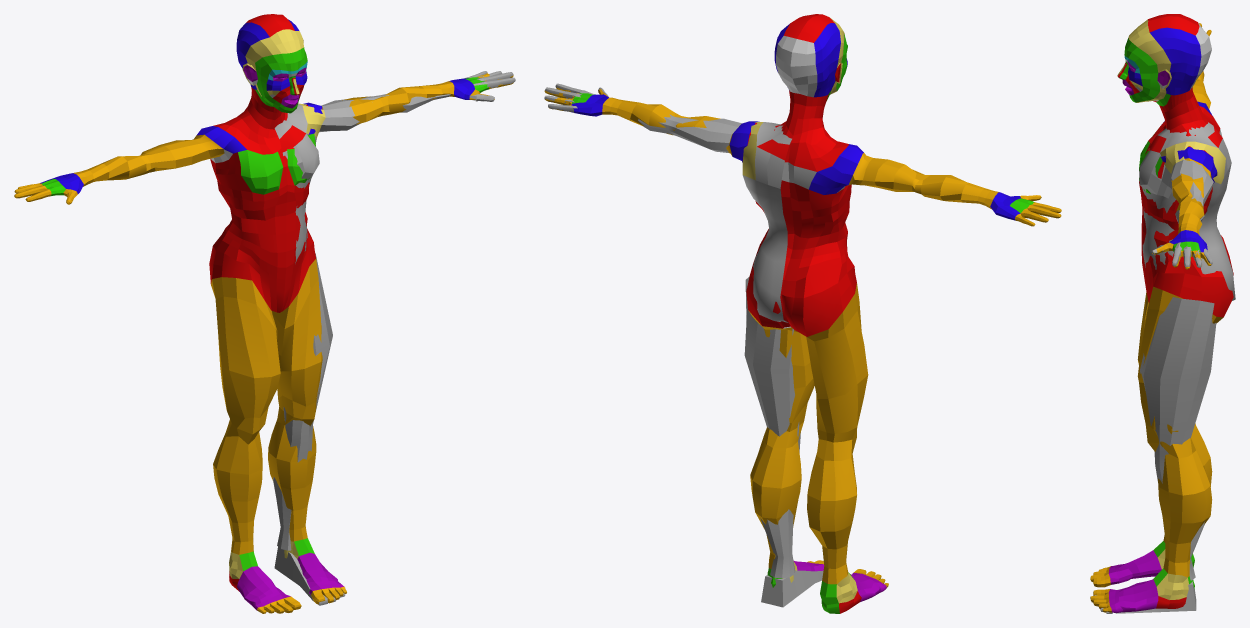
Rendered from sarah.fbx.
3 views of the same model, side by side, from view 1: azimuth 30°, elevation 25°; view 2: azimuth 150°, elevation 25°; view 3: azimuth 270°, elevation 25° (orthographic). The views are drawn at different scales.
Visible parts, largest first — view 1: polySurface7, polySurface8, GenericMesh_V10_1:GenMeshDemistified2:pCylinder1, GenericMesh_V10_1:GenMeshDemistified2:pCube6; view 2: polySurface7, polySurface8, GenericMesh_V10_1:GenMeshDemistified2:pCylinder1, GenericMesh_V10_1:GenMeshDemistified2:pCube6; view 3: polySurface7, GenericMesh_V10_1:GenMeshDemistified2:pCylinder1, polySurface8, GenericMesh_V10_1:GenMeshDemistified2:pCube6.
Part boxes in pixels (x1=…): polySurface7: x1=14, y1=14, x2=513, y2=613; polySurface8: x1=274, y1=93, x2=450, y2=263; GenericMesh_V10_1:GenMeshDemistified2:pCylinder1: x1=273, y1=253, x2=332, y2=550; GenericMesh_V10_1:GenMeshDemistified2:pCube6: x1=274, y1=547, x2=311, y2=598; polySurface7: x1=544, y1=14, x2=1061, y2=613; polySurface8: x1=638, y1=114, x2=791, y2=322; GenericMesh_V10_1:GenMeshDemistified2:pCylinder1: x1=744, y1=276, x2=800, y2=578; GenericMesh_V10_1:GenMeshDemistified2:pCube6: x1=761, y1=570, x2=823, y2=607; polySurface7: x1=1090, y1=14, x2=1233, y2=612; GenericMesh_V10_1:GenMeshDemistified2:pCylinder1: x1=1140, y1=297, x2=1216, y2=580; polySurface8: x1=1139, y1=122, x2=1235, y2=300; GenericMesh_V10_1:GenMeshDemistified2:pCube6: x1=1115, y1=580, x2=1196, y2=613.
Bounding box in the file's own units: 33.84 × 36.56 × 8.35.
